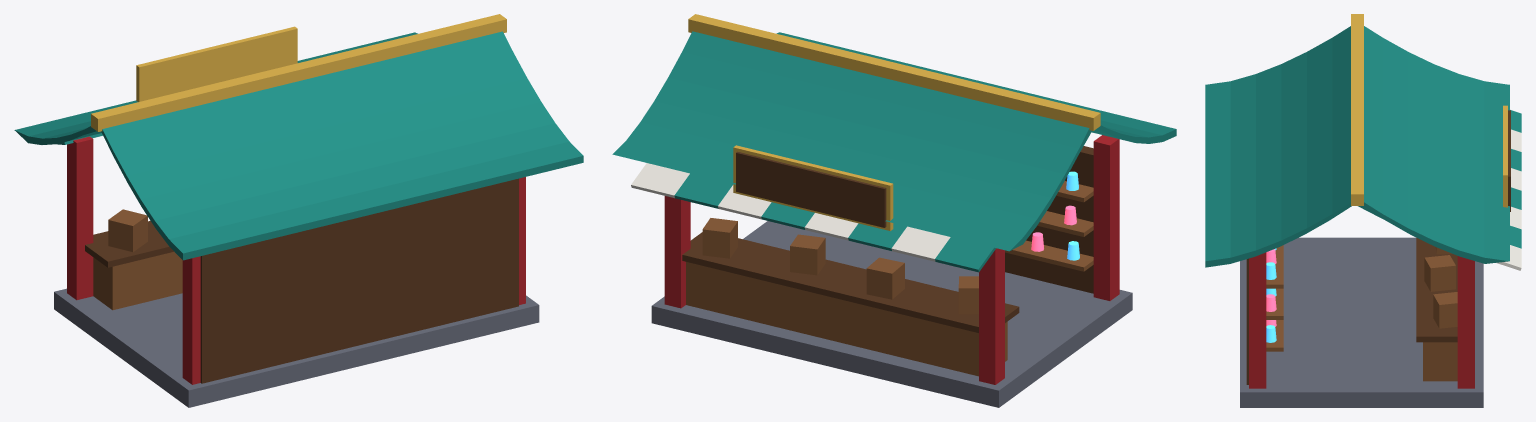
File: shop.glb
The picture shows the model from 3 angles, left to right: view 1: azimuth 30°, elevation 25°; view 2: azimuth 150°, elevation 25°; view 3: azimuth 270°, elevation 25°; orthographic projection. The views are drawn at different scales.
Parts seen in each view (by area): view 1: Roof_1F8F86, WoodDark_5C3A22, Stone_6B6F7E, Gold_E6B84A, Pillar_B3262E, Wood_8A5A34; view 2: Roof_1F8F86 (×2), Stone_6B6F7E, Wood_8A5A34, WoodDark_5C3A22, Pillar_B3262E, Gold_E6B84A, Cloth_F4F1EA; view 3: Roof_1F8F86 (×2), Stone_6B6F7E, Pillar_B3262E, Wood_8A5A34, Gold_E6B84A, WoodDark_5C3A22, Cloth_F4F1EA, PotionB_3D8BFF, PotionR_FF4D6D.
Boxes of the visible parts, x1=… form: Roof_1F8F86: x1=14, y1=31, x2=583, y2=260; WoodDark_5C3A22: x1=85, y1=178, x2=518, y2=383; Stone_6B6F7E: x1=54, y1=288, x2=539, y2=407; Gold_E6B84A: x1=91, y1=14, x2=506, y2=131; Pillar_B3262E: x1=67, y1=136, x2=525, y2=384; Wood_8A5A34: x1=93, y1=209, x2=182, y2=310; Roof_1F8F86 (×2): x1=612, y1=31, x2=1176, y2=272; Stone_6B6F7E: x1=651, y1=221, x2=1132, y2=407; Wood_8A5A34: x1=686, y1=181, x2=1093, y2=376; WoodDark_5C3A22: x1=682, y1=146, x2=1093, y2=332; Pillar_B3262E: x1=664, y1=135, x2=1119, y2=384; Gold_E6B84A: x1=688, y1=14, x2=1100, y2=230; Cloth_F4F1EA: x1=631, y1=163, x2=950, y2=261; Roof_1F8F86 (×2): x1=1205, y1=26, x2=1521, y2=267; Stone_6B6F7E: x1=1240, y1=237, x2=1483, y2=407; Pillar_B3262E: x1=1249, y1=252, x2=1474, y2=388; Wood_8A5A34: x1=1266, y1=245, x2=1457, y2=381; Gold_E6B84A: x1=1351, y1=14, x2=1507, y2=207; WoodDark_5C3A22: x1=1246, y1=110, x2=1510, y2=384; Cloth_F4F1EA: x1=1496, y1=129, x2=1521, y2=270; PotionB_3D8BFF: x1=1266, y1=248, x2=1276, y2=342; PotionR_FF4D6D: x1=1266, y1=249, x2=1276, y2=326.
Bounding box in the file's own units: 35 × 20.54 × 25.97.
